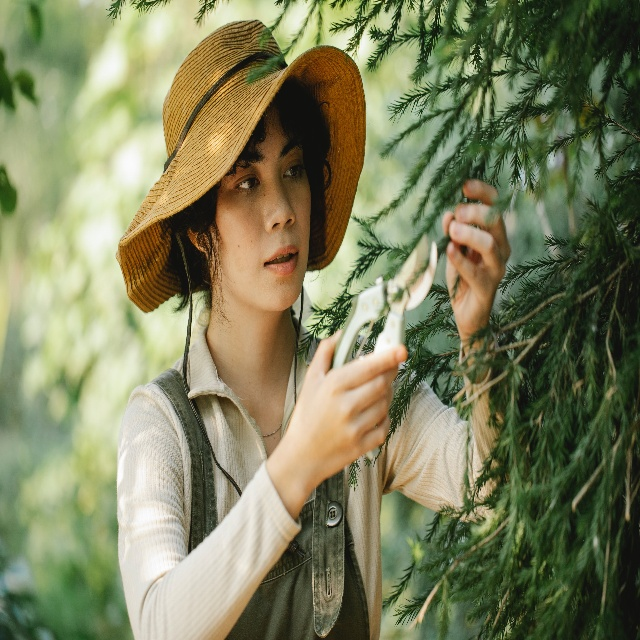Sin_guantes: (286, 326, 408, 489), (442, 176, 510, 340)
